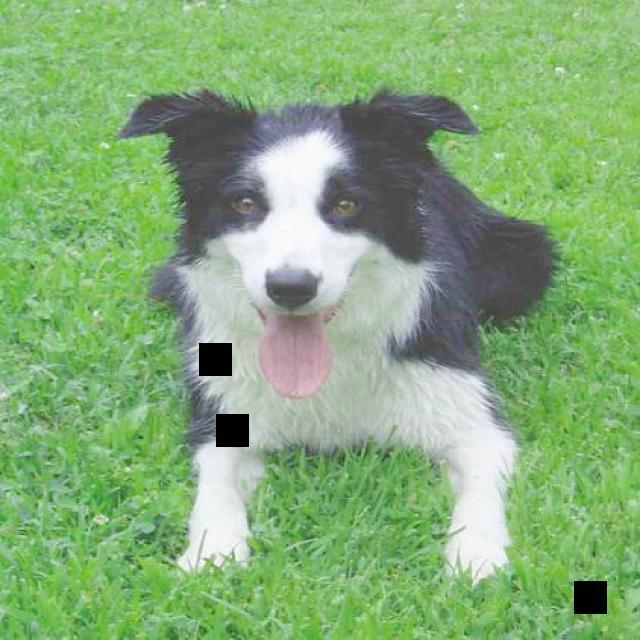adult_dog: (114, 88, 559, 585)
